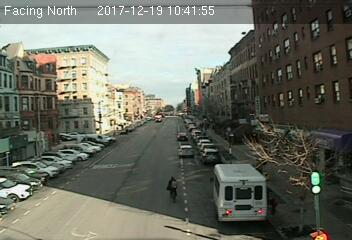bicycle: (166, 174, 179, 204)
car: (202, 147, 219, 164), (177, 144, 195, 158), (176, 132, 189, 141)
truck: (213, 162, 270, 223)
